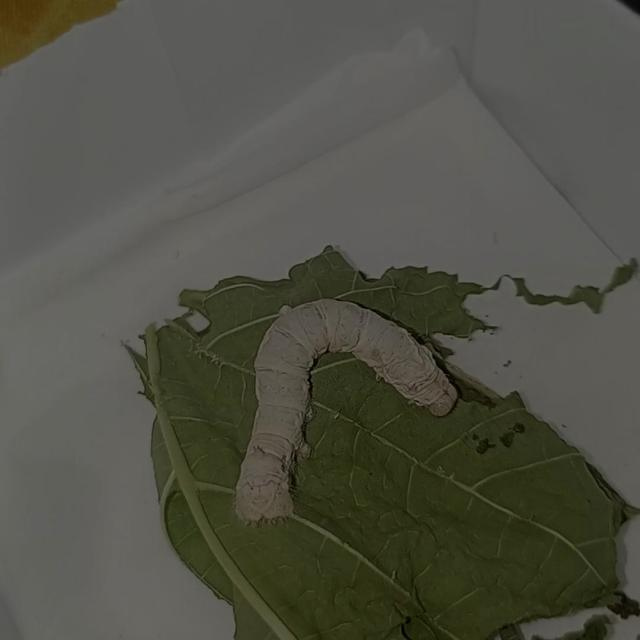Healthy: (198, 278, 486, 542)
